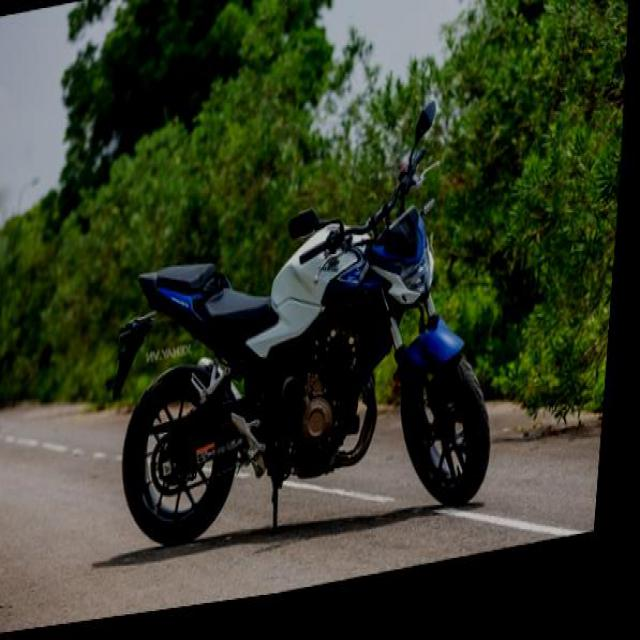CB500F: (114, 202, 514, 583)
